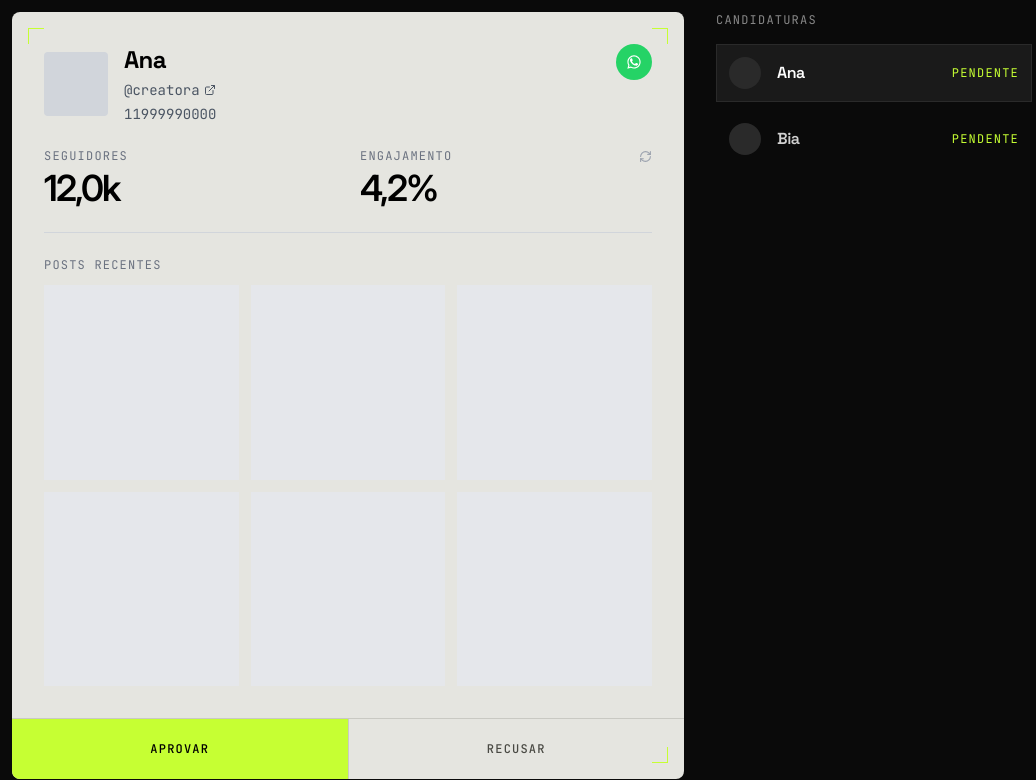
Test: CampaignFilaTab — lista Pipeline (desktop) › seleciona a primeira candidatura por padrão e troca ao clicar em outra linha
Expected: the heading "Ana" is shown, [124,44,166,75]
Click the text "Bia": (788, 138) [777,128,800,149]
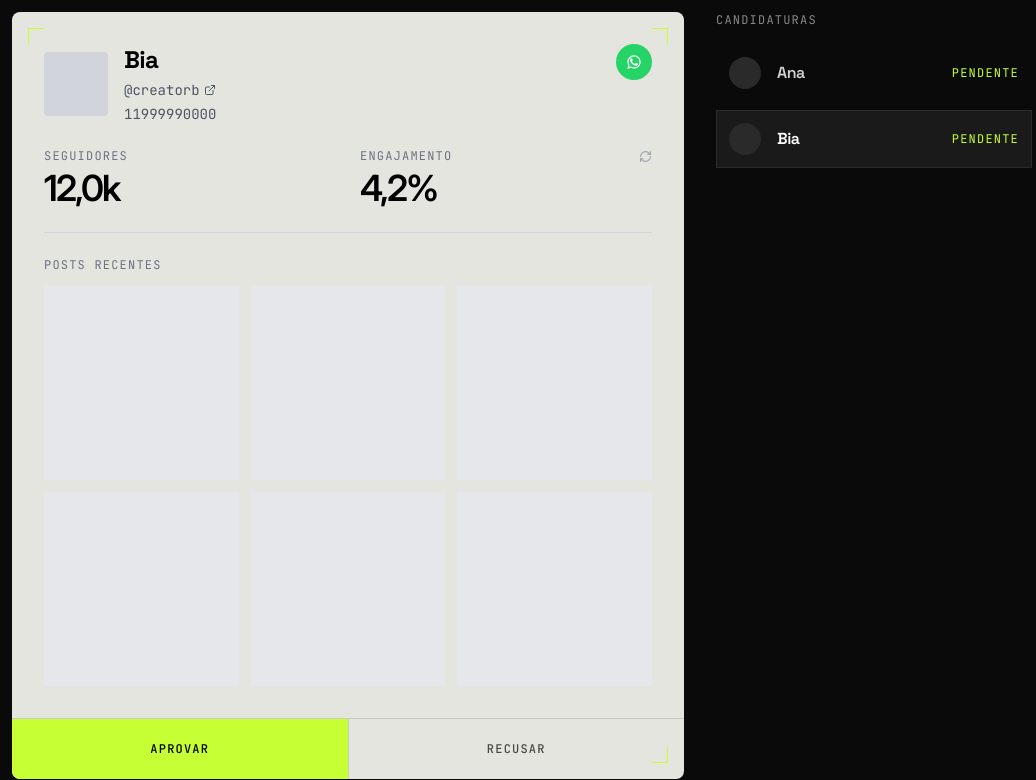
Now the heading "Bia" is shown, box [124,44,158,75]
